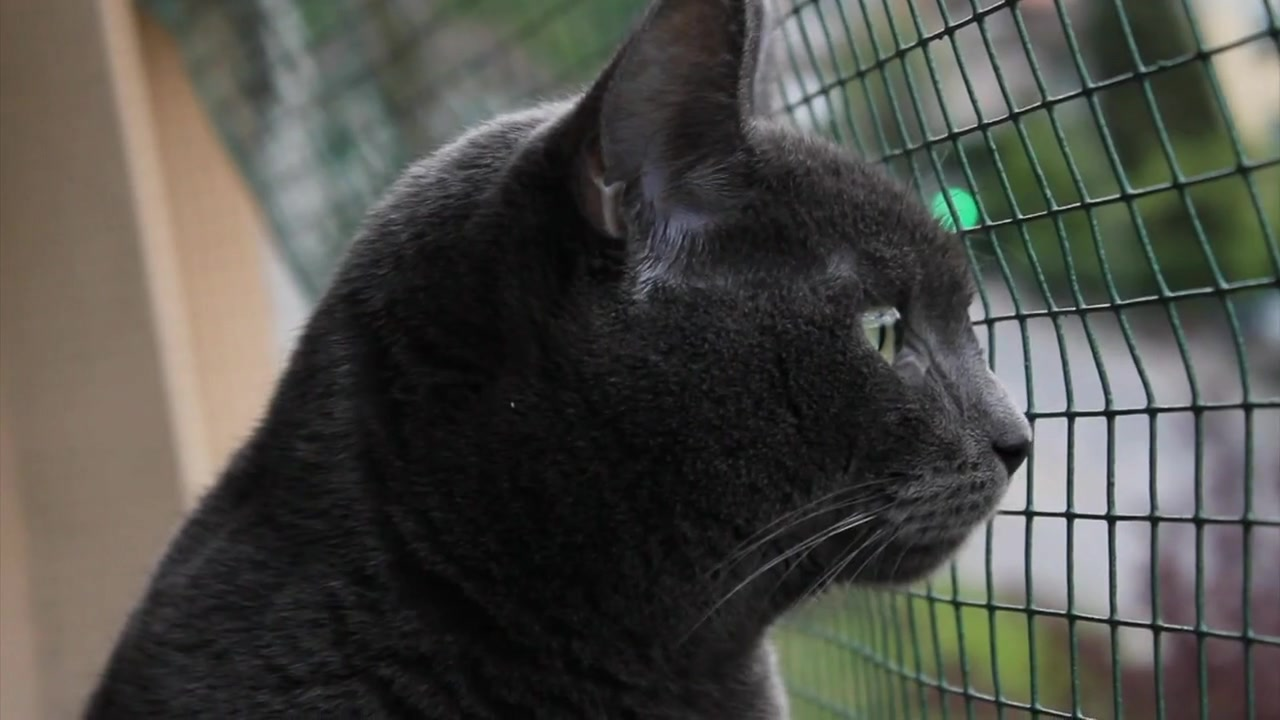cat: (69, 6, 1042, 720)
